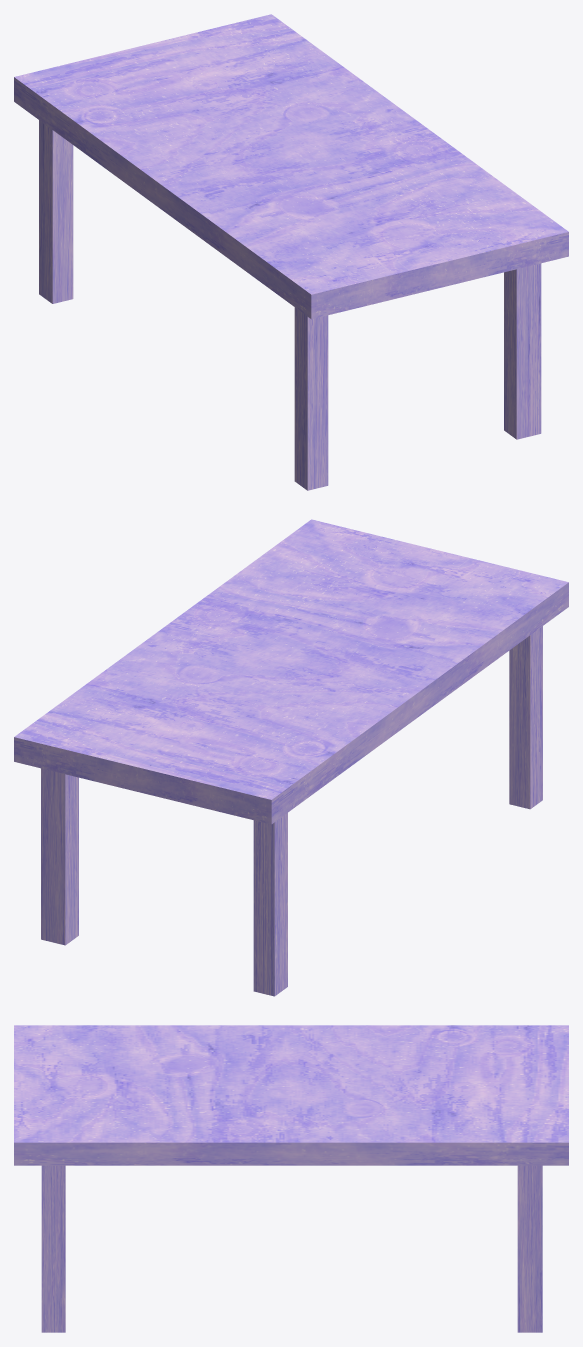
The model's file is mesa_1blend.fbx.
3 renders of one model, top to bottom at view 1: azimuth 30°, elevation 25°; view 2: azimuth 150°, elevation 25°; view 3: azimuth 270°, elevation 25°, orthographic. The views are drawn at different scales.
Parts seen in each view (by area): view 1: Mesa, Mesa.001; view 2: Mesa, Mesa.001; view 3: Mesa, Mesa.001.
Part boxes in pixels (x1,y1,x2,y2): Mesa: [14, 14, 568, 319]; Mesa.001: [39, 120, 541, 490]; Mesa: [14, 519, 568, 824]; Mesa.001: [41, 626, 542, 996]; Mesa: [14, 1025, 568, 1165]; Mesa.001: [41, 1165, 542, 1332].
Size of the model in its own units: 90 by 70 by 180.
